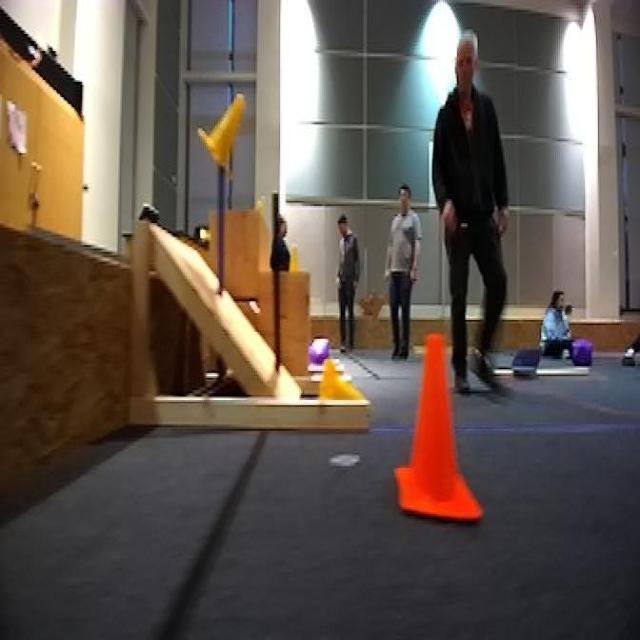frc_cone: (195, 92, 248, 177), (318, 354, 365, 400), (289, 242, 301, 272)
frc_cube: (565, 335, 592, 368), (312, 335, 331, 371)
